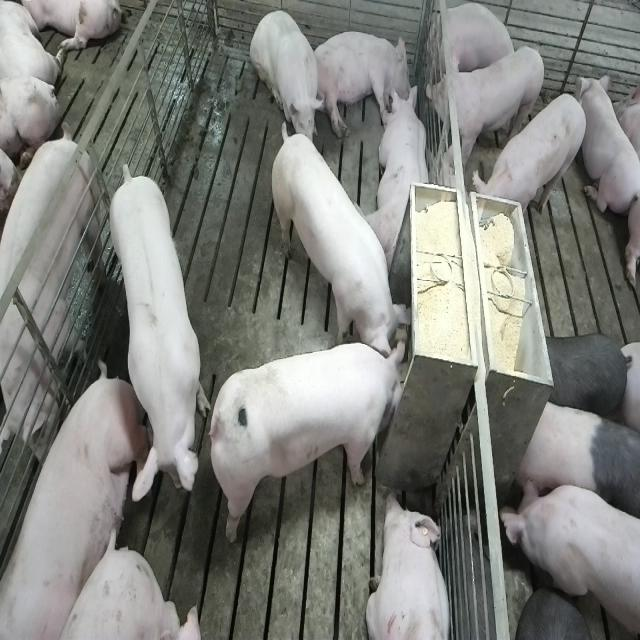Feeding: (206, 344, 407, 546), (267, 118, 408, 364)
Lateral_lying: (4, 361, 148, 636), (311, 29, 411, 140)
Sitting: (249, 6, 325, 156)
Standing: (0, 122, 106, 468), (108, 157, 210, 514), (498, 476, 638, 640), (512, 399, 638, 532), (474, 91, 588, 237), (424, 42, 546, 170), (537, 332, 633, 428), (517, 589, 606, 640)
Sternal_lying: (365, 490, 453, 640), (368, 84, 433, 269), (580, 72, 638, 222), (432, 2, 516, 86)
